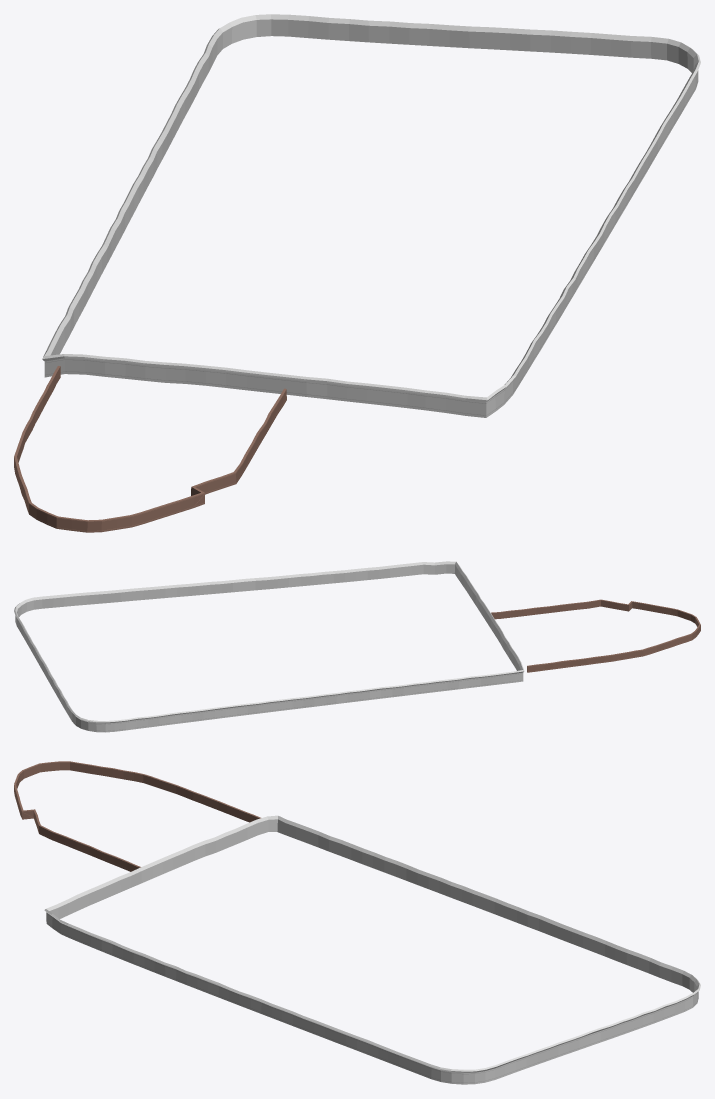
The model's file is solarpanels_fencing.dae.
3 renders of one model, top to bottom at view 1: azimuth 30°, elevation 25°; view 2: azimuth 150°, elevation 25°; view 3: azimuth 270°, elevation 25°, orthographic. The views are drawn at different scales.
Visible parts, largest first — view 1: Colmesh-1, solarpanels_fencing_a2000; view 2: Colmesh-1, solarpanels_fencing_a2000; view 3: Colmesh-1, solarpanels_fencing_a2000.
Part boxes in pixels (x1,y1,x2,y2): Colmesh-1: [14, 14, 700, 532]; solarpanels_fencing_a2000: [14, 70, 698, 532]; Colmesh-1: [14, 561, 700, 722]; solarpanels_fencing_a2000: [15, 616, 700, 732]; Colmesh-1: [14, 761, 700, 1071]; solarpanels_fencing_a2000: [14, 786, 698, 1084].
Size of the model in its own units: 155 by 137 by 7.41.
